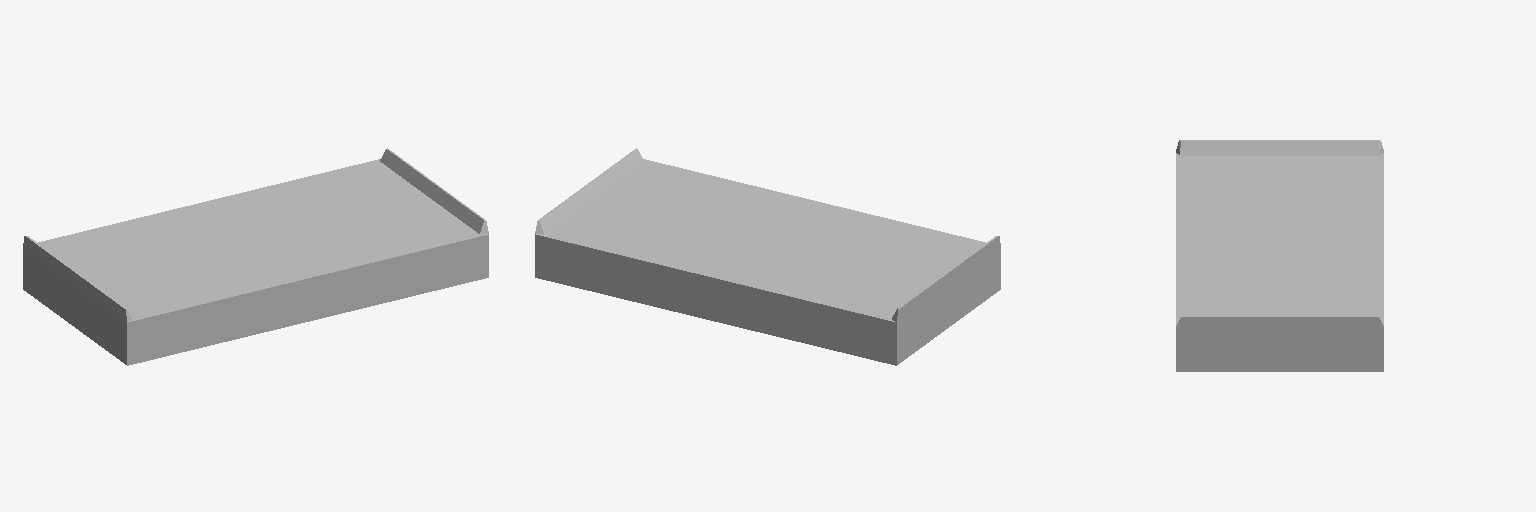
File: RecessedLight.obj
3 renders of one model, left to right at view 1: azimuth 30°, elevation 25°; view 2: azimuth 150°, elevation 25°; view 3: azimuth 270°, elevation 25°, orthographic.
Visible parts, largest first — view 1: RecessedLight_Geom_RecessedLight; view 2: RecessedLight_Geom_RecessedLight; view 3: RecessedLight_Geom_RecessedLight.
Part boxes in pixels (x1,y1,x2,y2): RecessedLight_Geom_RecessedLight: (23,148,488,365); RecessedLight_Geom_RecessedLight: (535,148,1000,365); RecessedLight_Geom_RecessedLight: (1176,140,1383,371).
Size of the model in its own units: 1.22 by 0.1778 by 0.6096.